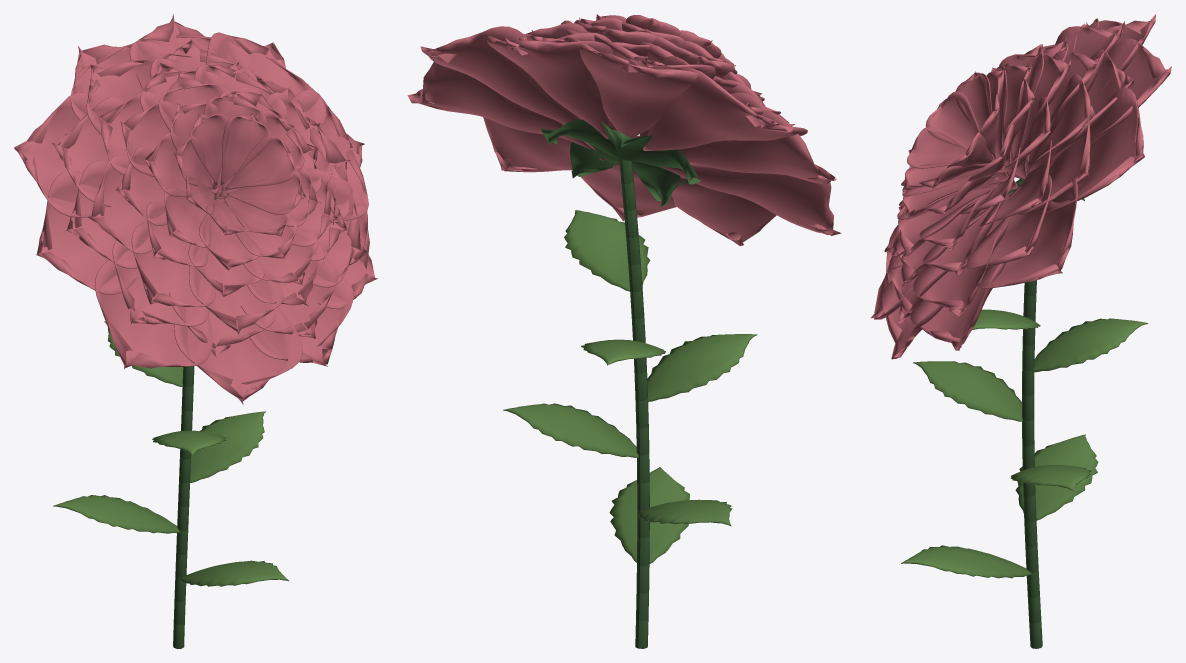
Rendered from camellia-legendary-v2.glb.
The picture shows the model from 3 angles, left to right: view 1: azimuth 30°, elevation 25°; view 2: azimuth 150°, elevation 25°; view 3: azimuth 270°, elevation 25°; orthographic projection. The views are drawn at different scales.
Visible parts, largest first — view 1: camellia-legendary-v2-petal, camellia-legendary-v2-leaf, camellia-legendary-v2-stem; view 2: camellia-legendary-v2-petal, camellia-legendary-v2-leaf, camellia-legendary-v2-stem; view 3: camellia-legendary-v2-petal, camellia-legendary-v2-leaf, camellia-legendary-v2-stem.
Boxes of the visible parts, x1=… form: camellia-legendary-v2-petal: x1=14, y1=14, x2=377, y2=404; camellia-legendary-v2-leaf: x1=53, y1=321, x2=288, y2=586; camellia-legendary-v2-stem: x1=173, y1=194, x2=215, y2=648; camellia-legendary-v2-petal: x1=407, y1=14, x2=841, y2=245; camellia-legendary-v2-leaf: x1=503, y1=210, x2=757, y2=563; camellia-legendary-v2-stem: x1=540, y1=119, x2=700, y2=648; camellia-legendary-v2-petal: x1=870, y1=14, x2=1171, y2=359; camellia-legendary-v2-leaf: x1=901, y1=309, x2=1148, y2=578; camellia-legendary-v2-stem: x1=1007, y1=178, x2=1084, y2=648.
Size of the model in its own units: 1.28 by 1.97 by 0.8807.
